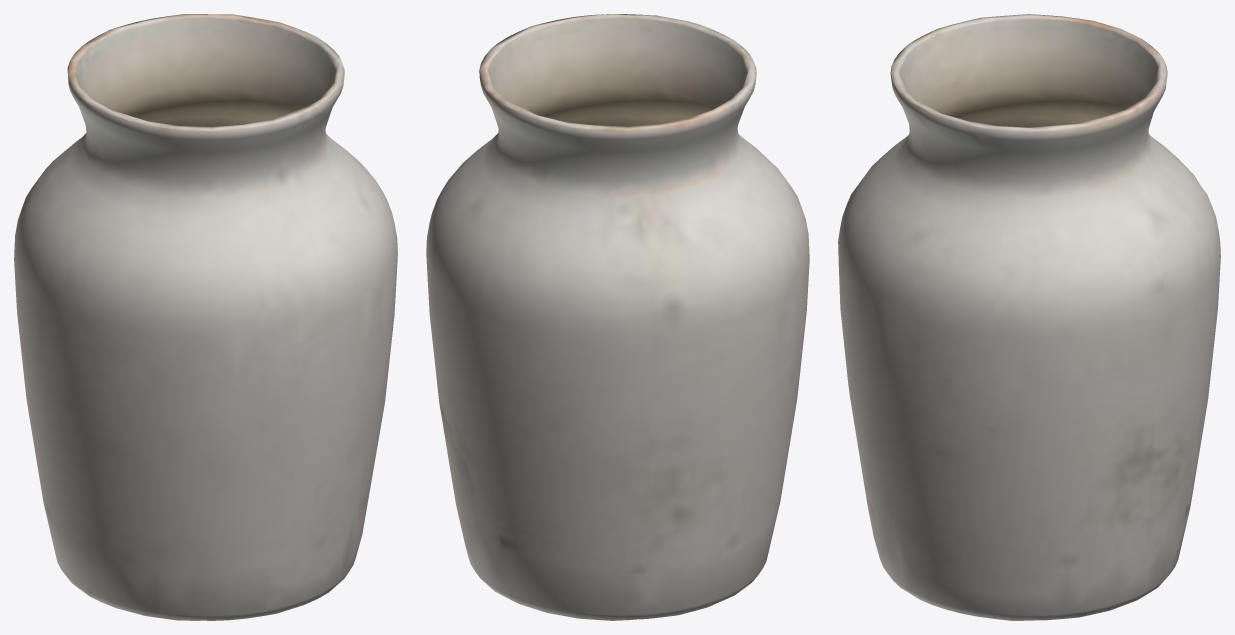
The model's file is th_vase3.glb.
3 views of the same model, side by side, from view 1: azimuth 30°, elevation 25°; view 2: azimuth 150°, elevation 25°; view 3: azimuth 270°, elevation 25° (orthographic).
Visible parts, largest first — view 1: ceramic_vase_02; view 2: ceramic_vase_02; view 3: ceramic_vase_02.
Boxes of the visible parts, <box> form: ceramic_vase_02: <box>14,14,397,620</box>; ceramic_vase_02: <box>426,14,809,620</box>; ceramic_vase_02: <box>838,14,1220,620</box>.
Bounding box in the file's own units: 0.2184 × 0.3092 × 0.218.
1 material, 1 textured.
